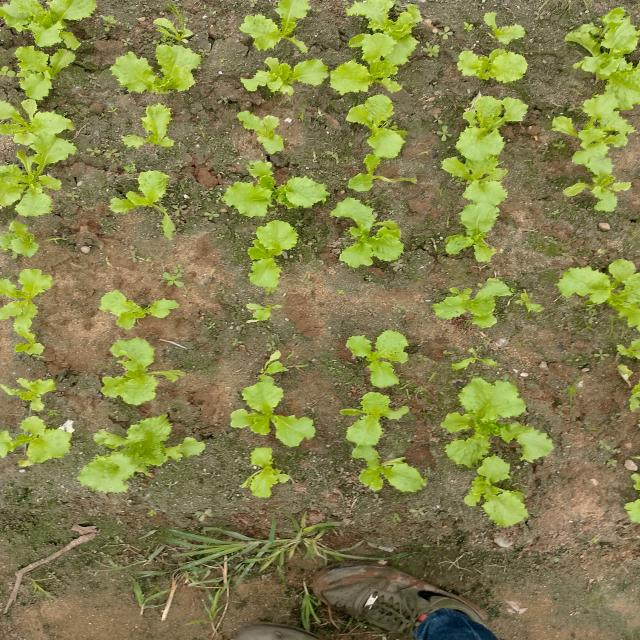Lettuce: (441, 383, 552, 484), (87, 330, 204, 406), (325, 187, 404, 280), (0, 401, 104, 471), (431, 90, 512, 176), (556, 249, 640, 325), (92, 412, 180, 478), (89, 276, 189, 334), (110, 24, 194, 92), (220, 160, 320, 217), (562, 8, 640, 78), (430, 274, 519, 335), (565, 73, 638, 146), (229, 376, 303, 447), (339, 322, 414, 392), (343, 0, 424, 60), (236, 0, 319, 57), (119, 100, 188, 167), (244, 219, 304, 295), (443, 192, 503, 268), (108, 166, 178, 231), (11, 105, 81, 170), (556, 150, 627, 214), (463, 466, 539, 524), (0, 262, 58, 336), (345, 92, 406, 162), (0, 0, 83, 47), (340, 391, 407, 448), (0, 160, 61, 220), (13, 46, 79, 101), (457, 46, 532, 91), (233, 107, 291, 156), (238, 445, 290, 499), (252, 62, 326, 98), (628, 467, 640, 532)
